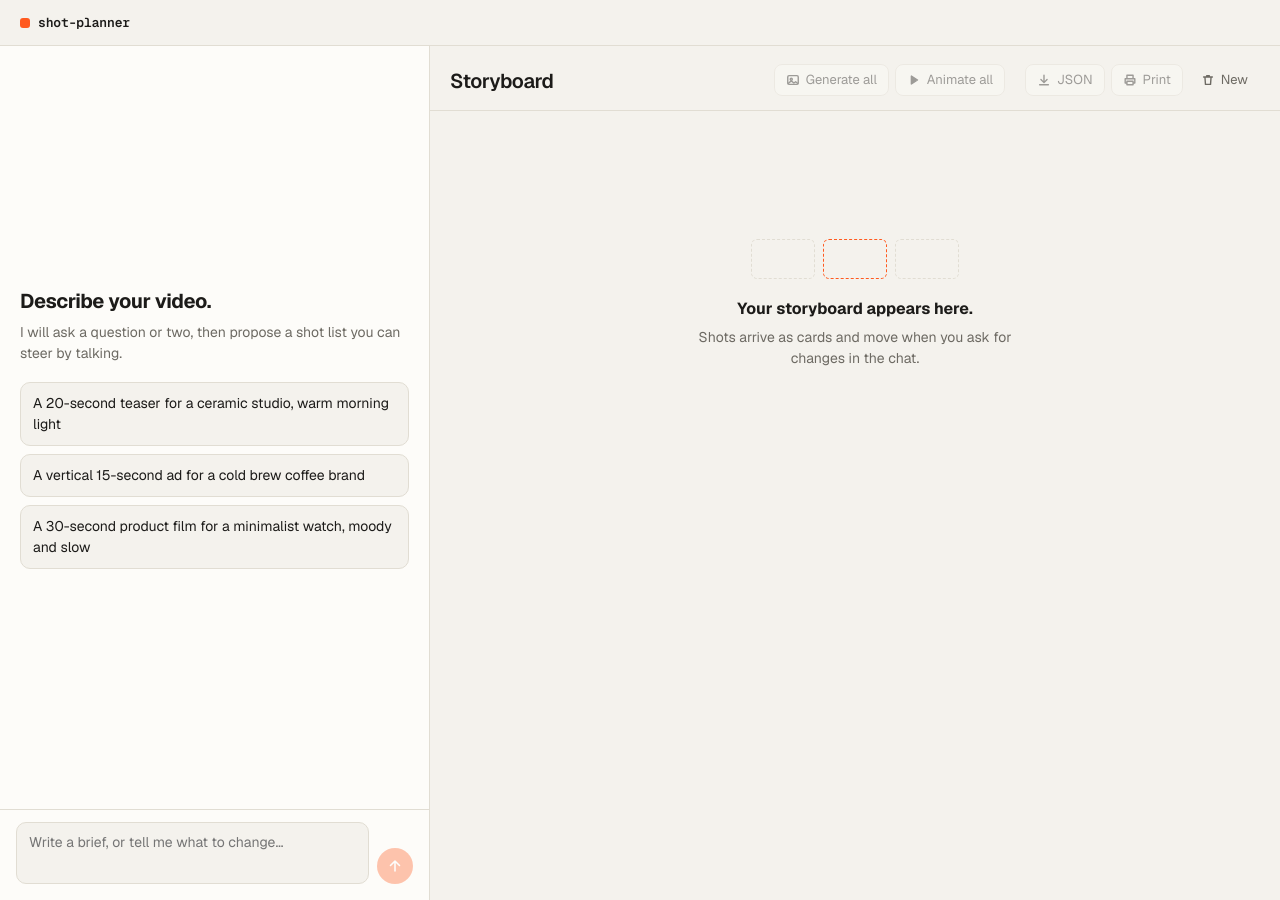
Scenario: App › turns a brief into streamed chat, an inline action and storyboard cards
Type "A teaser for a ceramic studio" into the text box named "Message".
click(192, 853); type("A teaser for a ceramic studio")  # box [16,822,369,884]
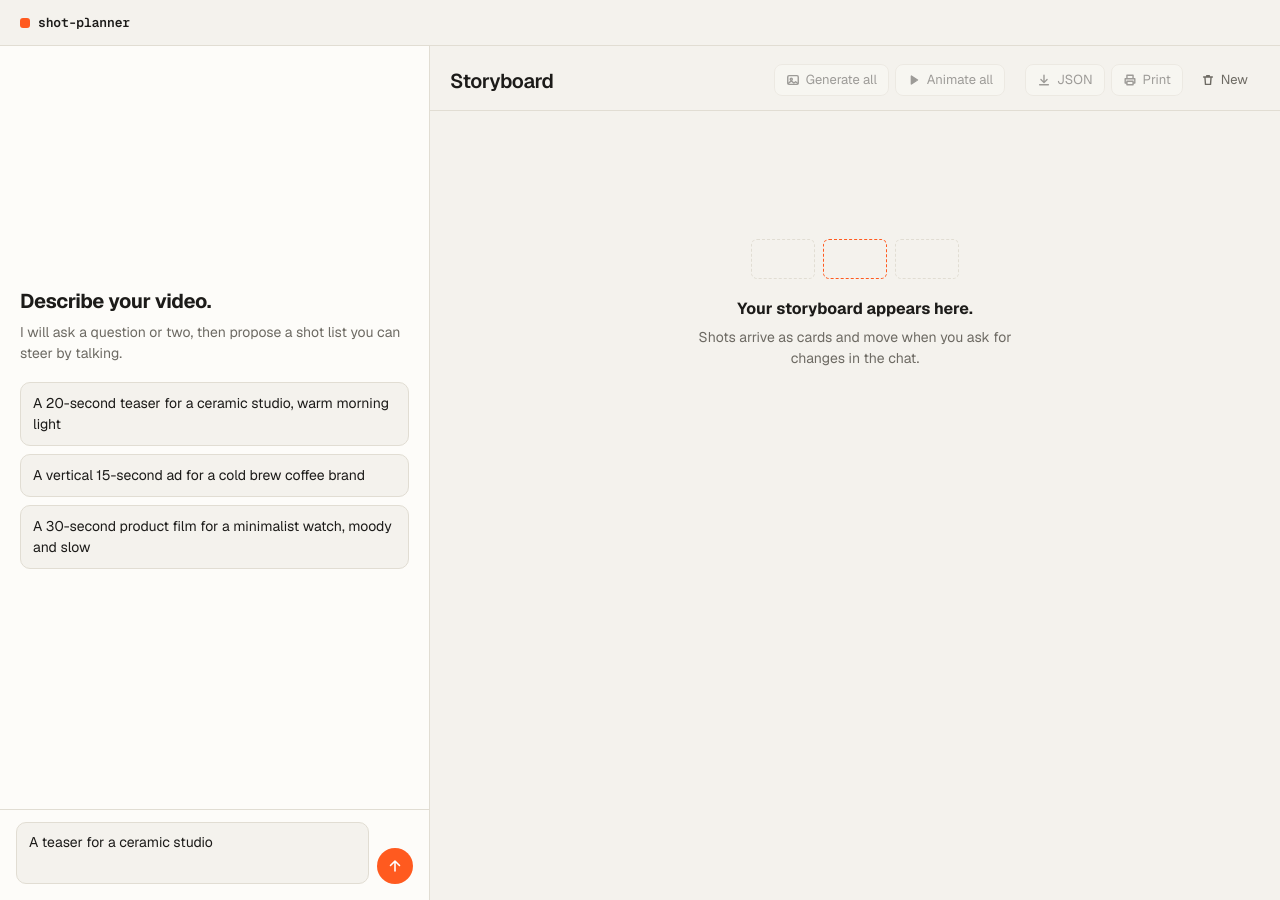
Click the button named "Send".
click(395, 866)  # box [377,848,413,884]
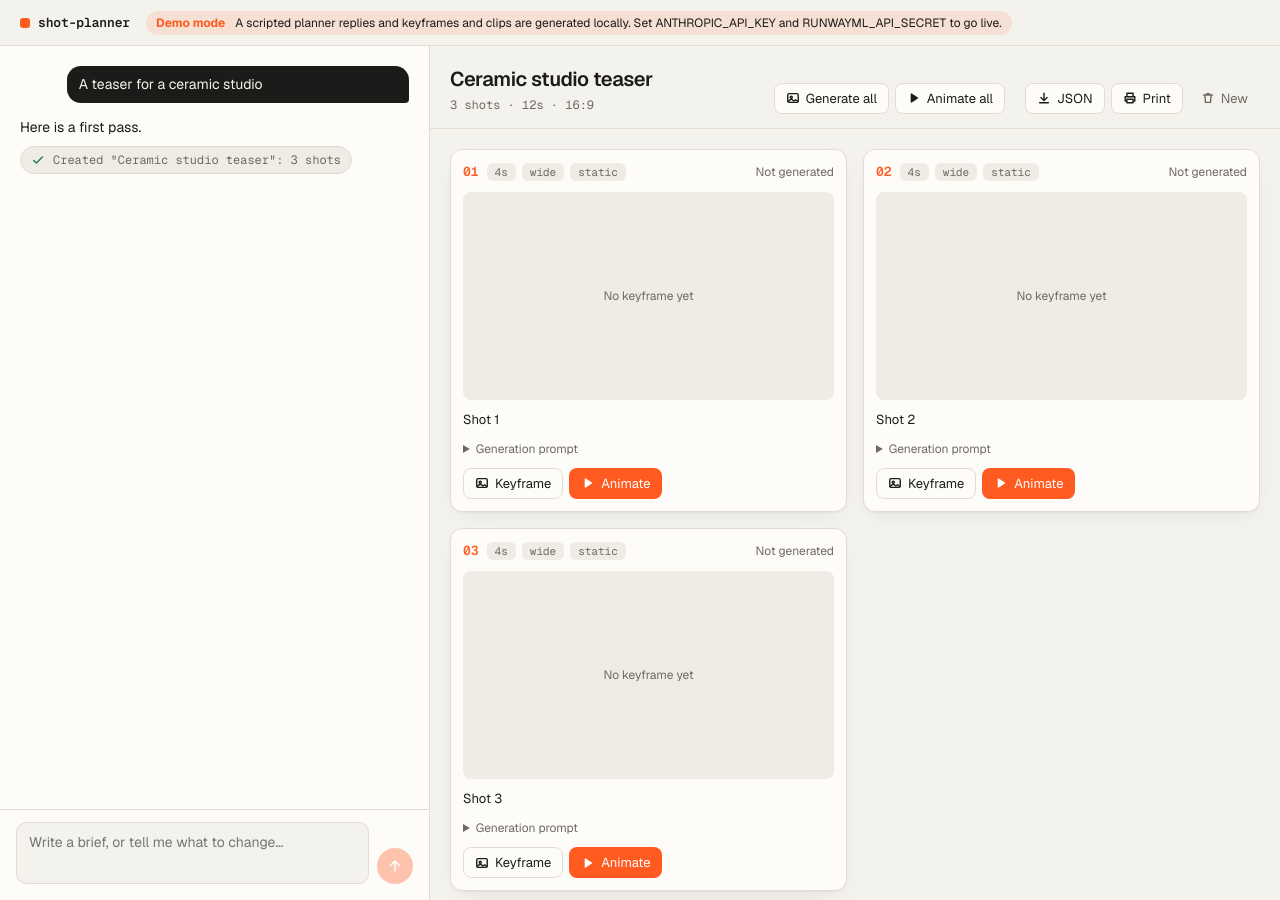
Check: the text "Here is a first pass." is shown, box [20,117,141,138]
Check: the text "Created \"Ceramic studio teaser\": 3 shots" is shown, box [53,151,341,169]
Check: the number of list items is 3, box [450,149,847,512]; [863,149,1260,512]; [450,528,847,891]
